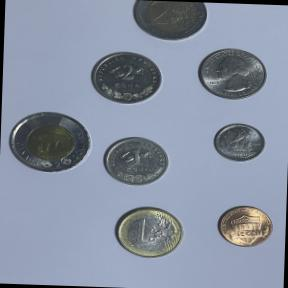1 Euro: (110, 201, 188, 263)
2 Euro: (126, 0, 210, 46)
Canda-10cent-: (205, 118, 270, 168)
Canda-2Dollar-: (2, 105, 98, 178)
Croatia-2Kune-: (84, 46, 168, 108)
US-1cent-: (212, 200, 276, 251)
US-25cent-: (191, 44, 272, 104)
